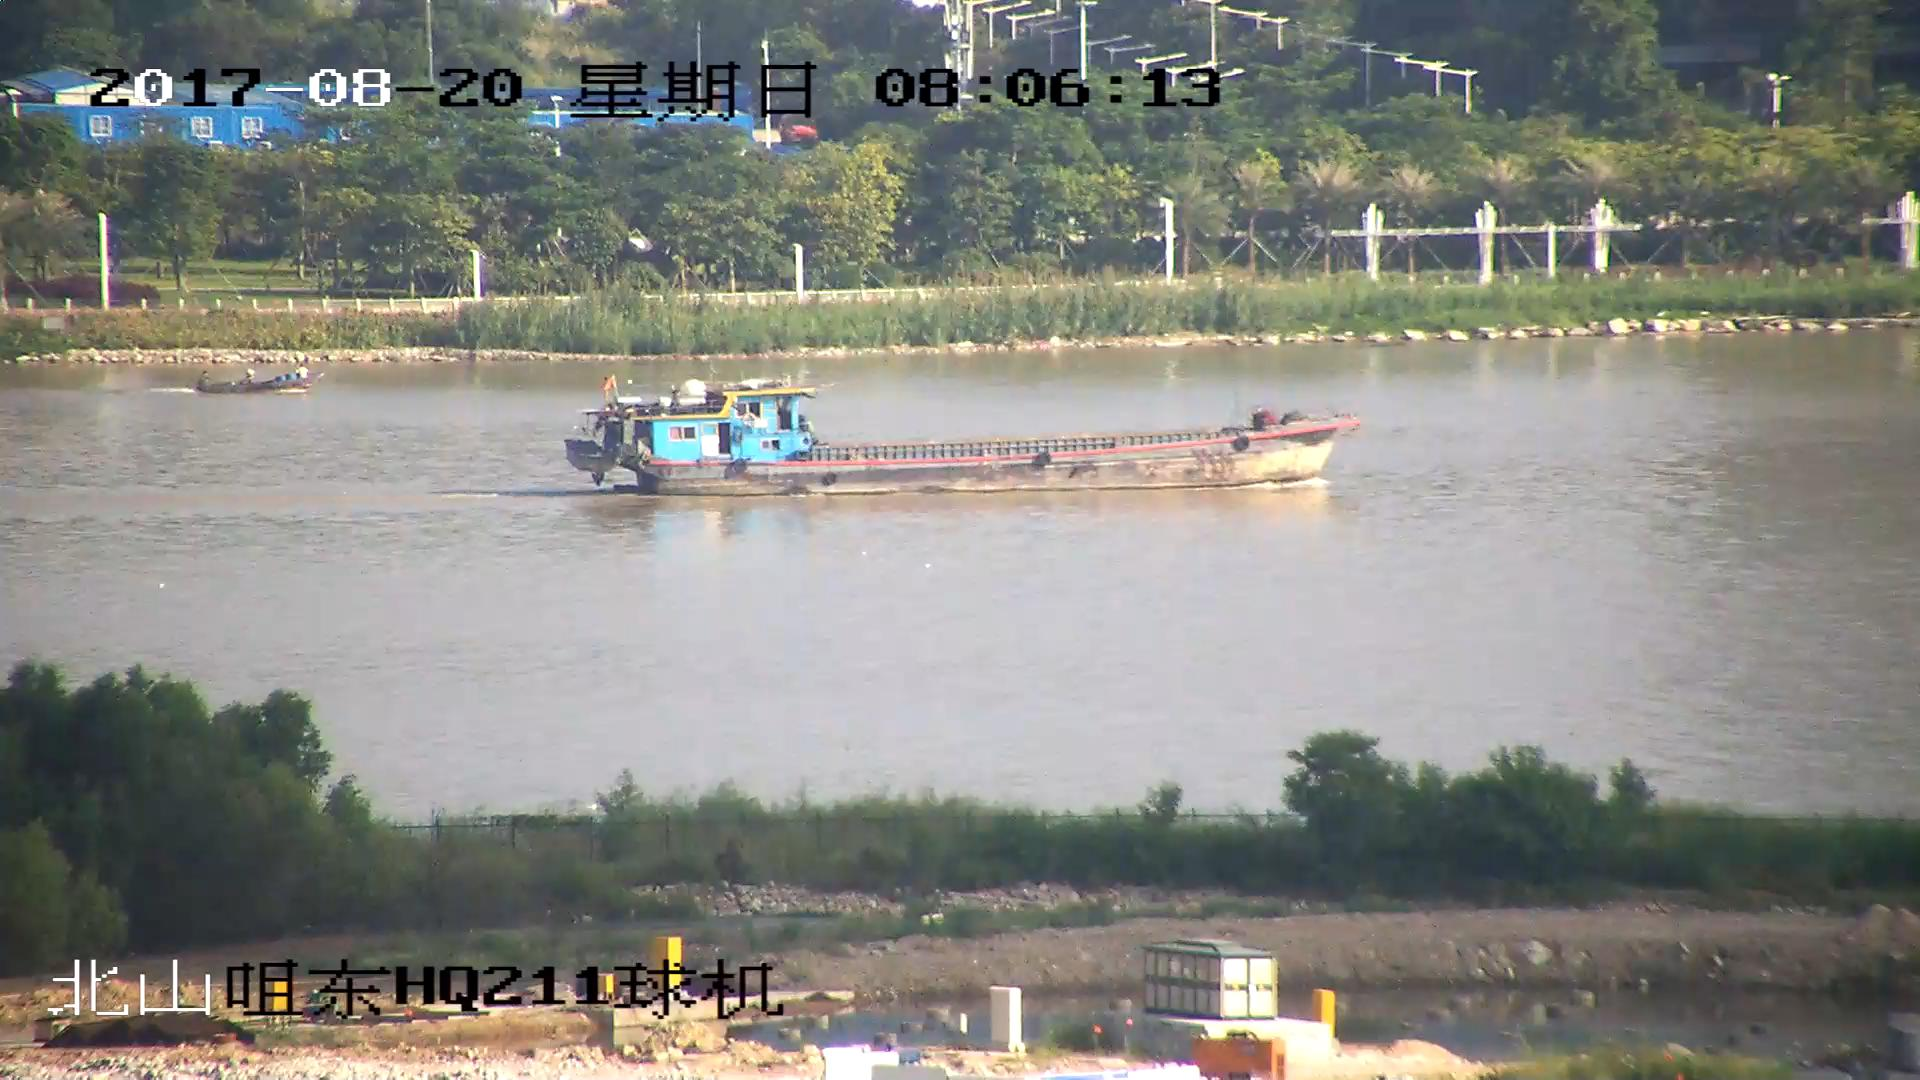fishing boat: (574, 377, 1363, 497), (194, 366, 307, 399)
